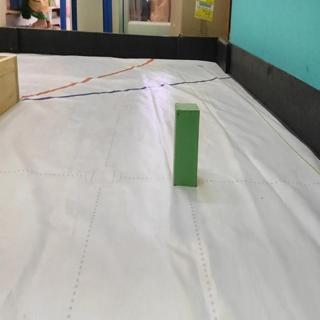greenbox: (173, 103, 199, 186)
